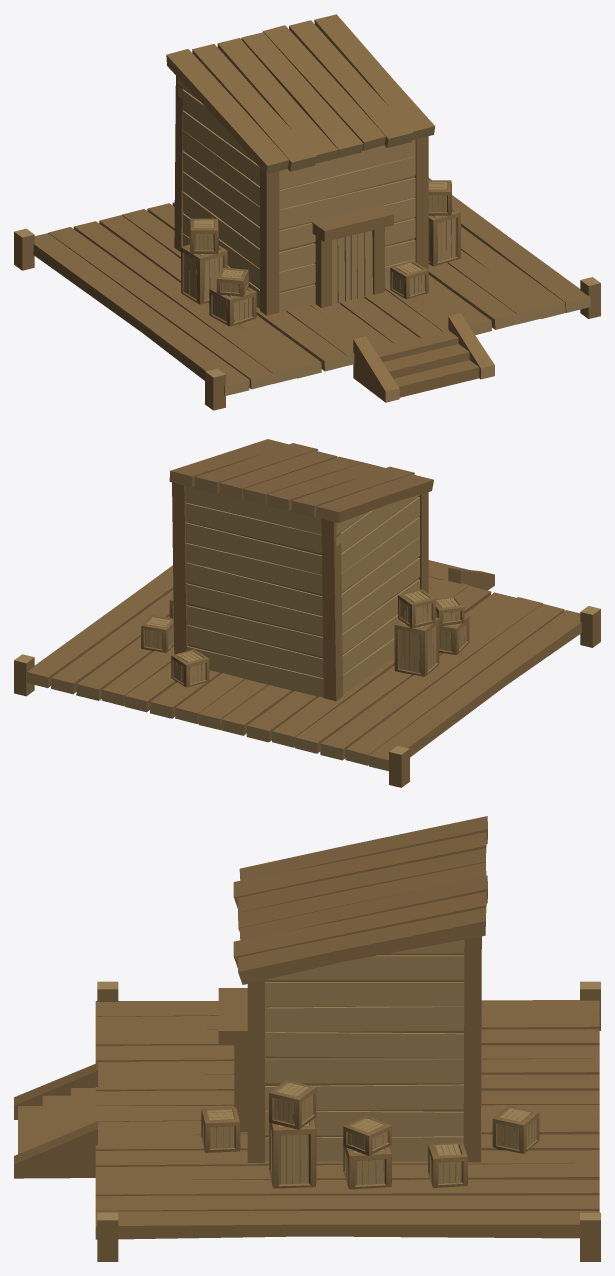
3 renders of one model, top to bottom at view 1: azimuth 30°, elevation 25°; view 2: azimuth 150°, elevation 25°; view 3: azimuth 270°, elevation 25°, orthographic. The views are drawn at different scales.
Visible parts, largest first — view 1: Storage_FirstAge_Level1; view 2: Storage_FirstAge_Level1; view 3: Storage_FirstAge_Level1.
Boxes of the visible parts, x1,y1,x2,y2 form: Storage_FirstAge_Level1: (14, 14, 600, 410); Storage_FirstAge_Level1: (14, 439, 600, 787); Storage_FirstAge_Level1: (14, 816, 600, 1261).
Size of the model in its own units: 1.41 by 0.7613 by 1.47.
